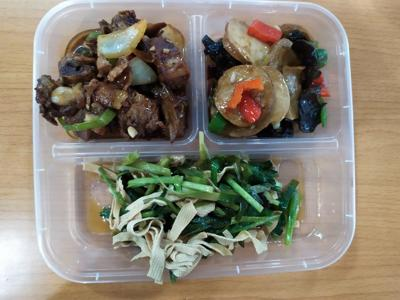jcdp: (168, 157, 296, 248)
r6: (54, 21, 185, 137)
